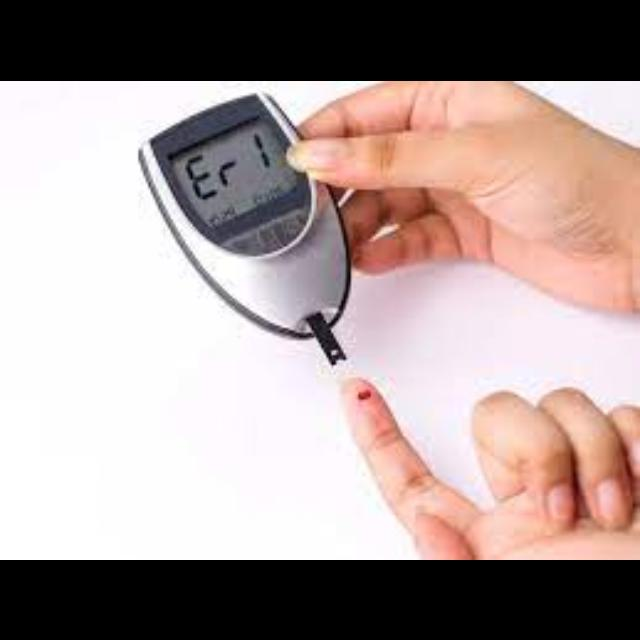Glucose-Meter: (139, 93, 350, 362)
